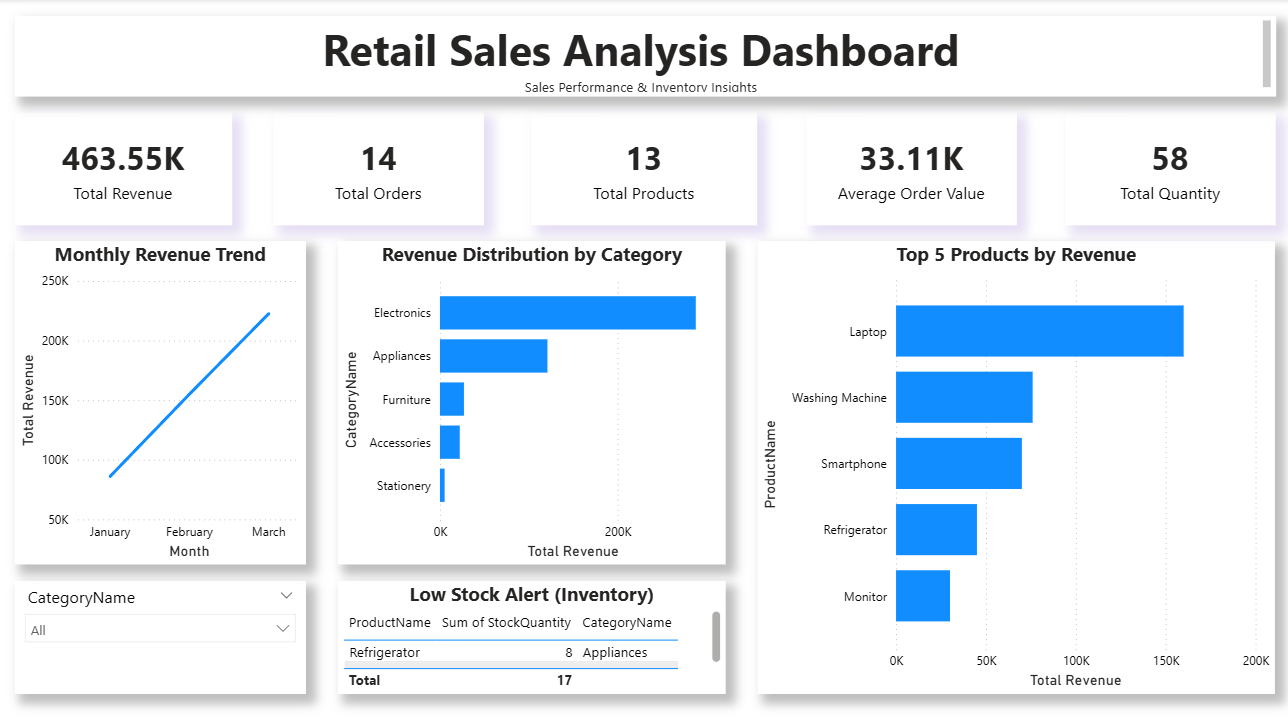

What the dashboard file says about the page in this screenshot:
{"tool":"powerbi","page":{"name":"Dashboard","canvas":[1280,720],"ordinal":0},"visuals":[{"type":"card","fields":{"Values":["Sum(Sales.TotalAmount)"]},"box":[16,112,215,112],"z":0},{"type":"card","fields":{"Values":["CountNonNull(Sales.SaleID)"]},"box":[272,112,208,112],"z":1000},{"type":"card","fields":{"Values":["CountNonNull(Products.ProductID)"]},"box":[528,112,224,112],"z":2000},{"type":"card","fields":{"Values":["Sales.Avg Order Value"]},"box":[800,112,208,112],"z":3000},{"type":"lineChart","title":"Monthly Revenue Trend","fields":{"Category":["Sales.SaleDate.Variation.Date Hierarchy.Month"],"Y":["Sum(Sales.TotalAmount)"]},"box":[16,240,288,320],"z":4000},{"type":"clusteredBarChart","title":"Revenue Distribution by Category","fields":{"Category":["Categories.CategoryName"],"Y":["Sum(Sales.TotalAmount)"]},"box":[336,240,384,320],"z":5000},{"type":"clusteredBarChart","title":"Top 5 Products by Revenue","fields":{"Category":["Products.ProductName"],"Y":["Sum(Sales.TotalAmount)"]},"box":[752,240,512,448],"z":6000},{"type":"tableEx","title":"Low Stock Alert (Inventory)","fields":{"Values":["Products.ProductName","Sum(Products.StockQuantity)","Categories.CategoryName"]},"box":[336,576,384,112],"z":7000},{"type":"slicer","fields":{"Values":["Categories.CategoryName"]},"box":[16,576,288,112],"z":8000},{"type":"card","fields":{"Values":["Sales.Total Quantity"]},"box":[1056,112,208,112],"z":8001},{"type":"textbox","box":[16,16,1248,80],"z":8002}]}

Visuals, with their boxes in screenshot pixels (x1, y1, x2, y2), scaled from the page's 1280x720 canvas onto the 1288x722 screenshot:
card - Sum(Sales.TotalAmount): box(16, 112, 232, 225)
card - CountNonNull(Sales.SaleID): box(274, 112, 483, 225)
card - CountNonNull(Products.ProductID): box(531, 112, 757, 225)
card - Sales.Avg Order Value: box(805, 112, 1014, 225)
"Monthly Revenue Trend" lineChart: box(16, 241, 306, 562)
"Revenue Distribution by Category" clusteredBarChart: box(338, 241, 725, 562)
"Top 5 Products by Revenue" clusteredBarChart: box(757, 241, 1272, 690)
"Low Stock Alert (Inventory)" tableEx: box(338, 578, 725, 690)
slicer - Categories.CategoryName: box(16, 578, 306, 690)
card - Sales.Total Quantity: box(1063, 112, 1272, 225)
textbox: box(16, 16, 1272, 96)
